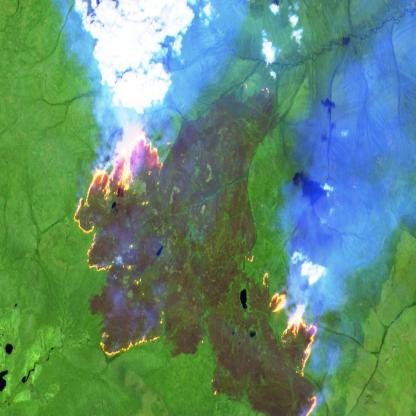fire: (72, 125, 166, 356), (262, 270, 320, 416), (241, 249, 256, 266)
